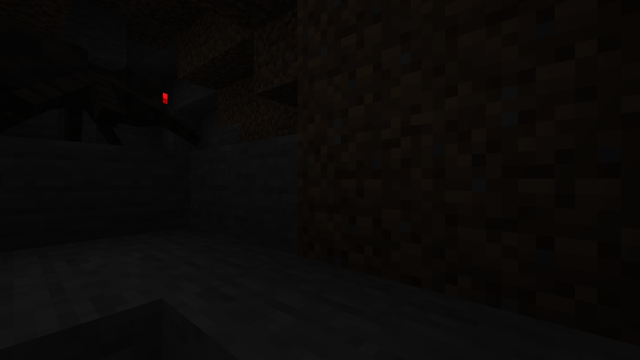araignees: (34, 8, 189, 151)
